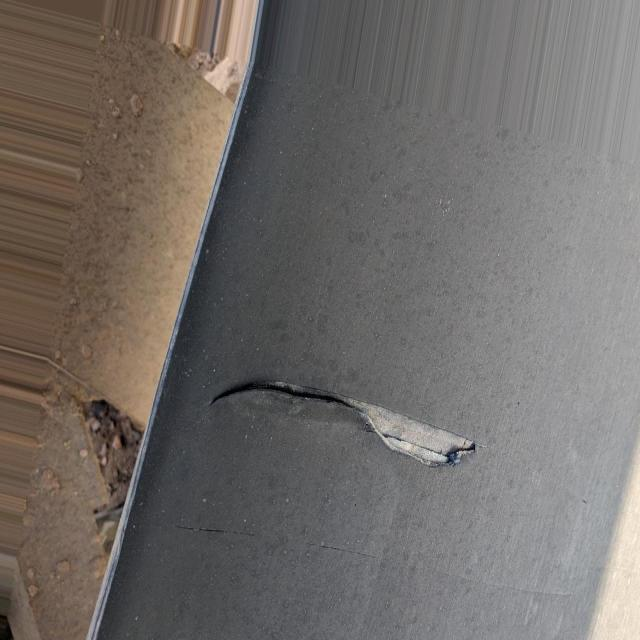Tear: (206, 378, 483, 473)
